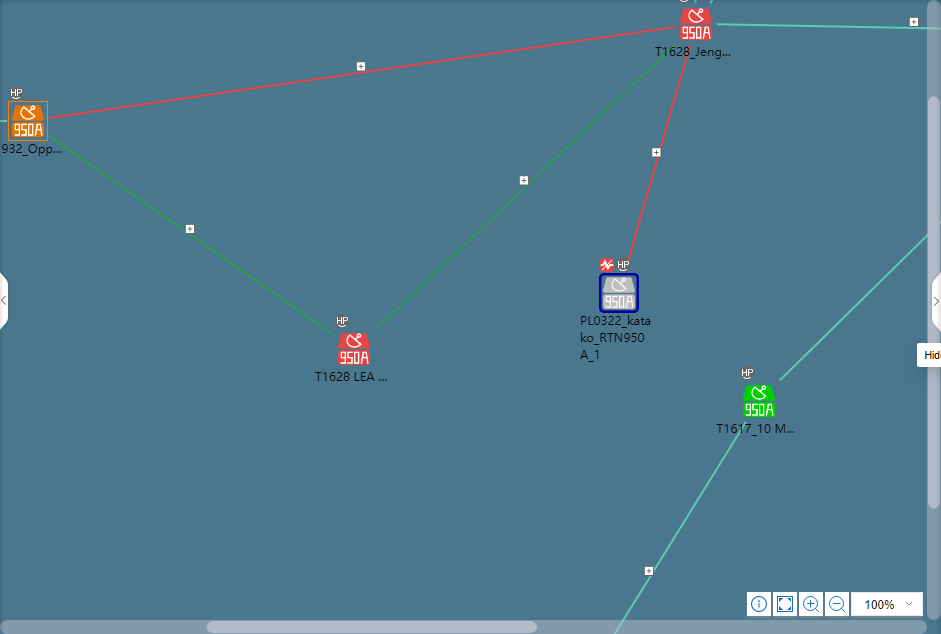Link_Blue: (611, 420, 748, 634), (777, 233, 926, 384), (716, 22, 941, 31)
Link_Green: (372, 42, 681, 335), (50, 134, 338, 341)
Link_Red: (48, 25, 676, 121), (623, 43, 692, 269)
RTN_Gray: (600, 277, 636, 311)
RTN_Green: (743, 386, 774, 417)
RTN_Orange: (12, 104, 46, 137)
RTN_Red: (680, 8, 711, 39), (338, 334, 369, 365)
